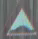Speed Breaker ahead: (3, 5, 37, 37)
